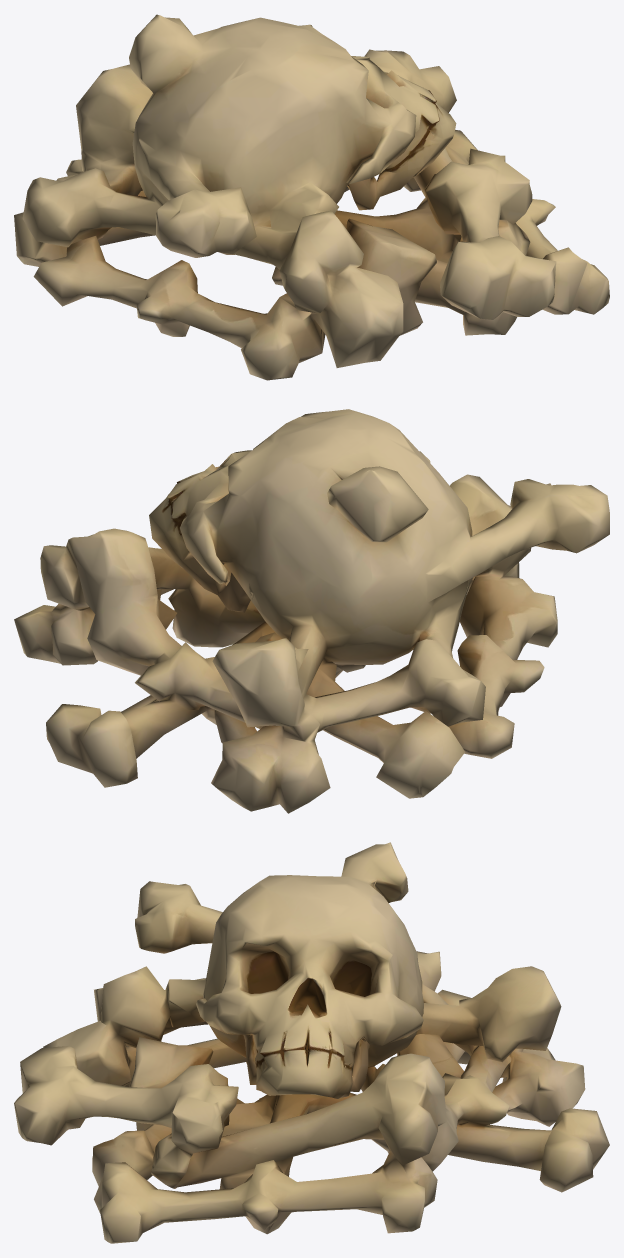
Rendered from bones_pile.glb.
3 views of the same model, one above another, from view 1: azimuth 30°, elevation 25°; view 2: azimuth 150°, elevation 25°; view 3: azimuth 270°, elevation 25° (orthographic). The views are drawn at different scales.
Visible parts, largest first — view 1: tripo_node_0e3ea80b-a040-4dd2-9541-cc501a05d366; view 2: tripo_node_0e3ea80b-a040-4dd2-9541-cc501a05d366; view 3: tripo_node_0e3ea80b-a040-4dd2-9541-cc501a05d366.
Part boxes in pixels (bbox=[...]): tripo_node_0e3ea80b-a040-4dd2-9541-cc501a05d366: bbox=[14, 14, 609, 380]; tripo_node_0e3ea80b-a040-4dd2-9541-cc501a05d366: bbox=[14, 409, 609, 813]; tripo_node_0e3ea80b-a040-4dd2-9541-cc501a05d366: bbox=[14, 842, 609, 1243].
Size of the model in its own units: 0.8628 by 0.4819 by 1.
Materials: 1 (1 with a texture image).
